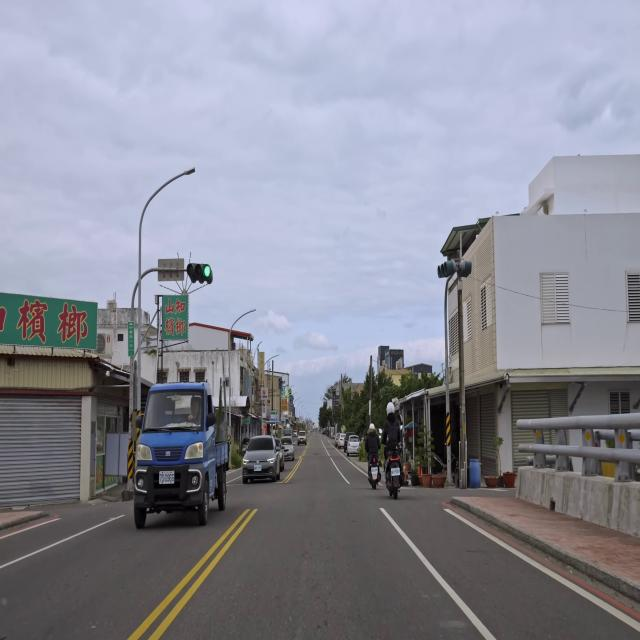green light: (186, 262, 214, 284)
